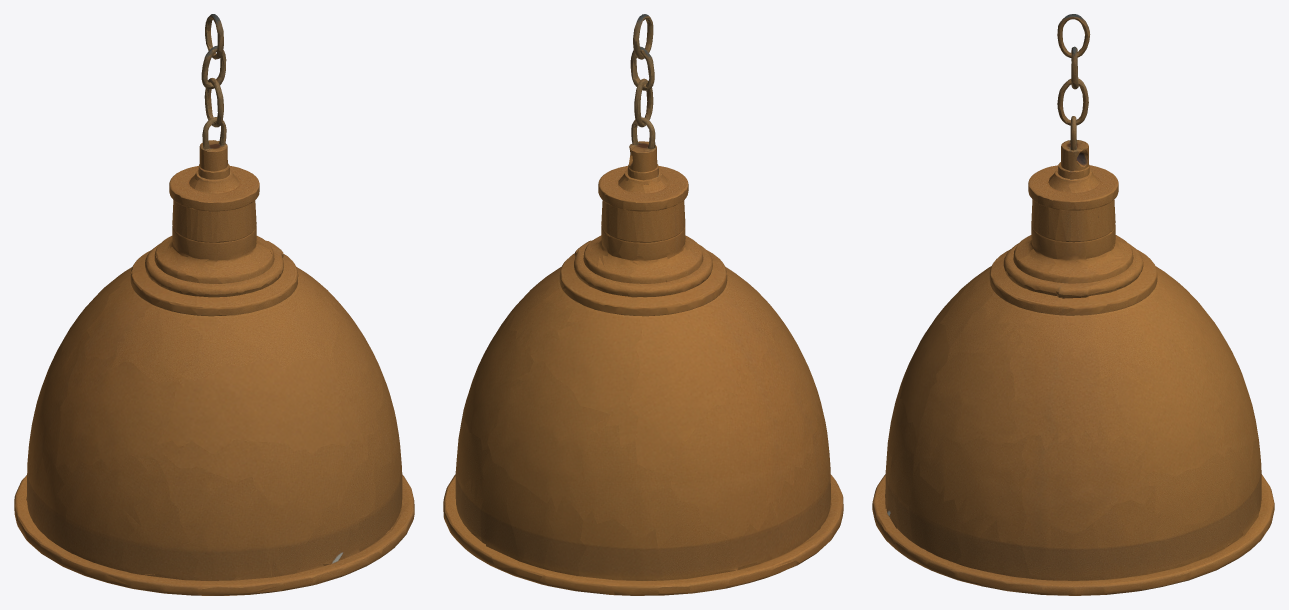
Rendered from lamba.glb.
The picture shows the model from 3 angles, left to right: view 1: azimuth 30°, elevation 25°; view 2: azimuth 150°, elevation 25°; view 3: azimuth 270°, elevation 25°; orthographic projection.
Size of the model in its own units: 1.39 by 1.9 by 1.39.
1 material, 1 textured.
